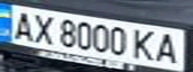0: (90, 21, 112, 54), (72, 19, 93, 52), (109, 25, 130, 57)
8: (54, 16, 78, 48)
A: (151, 30, 184, 65), (6, 8, 36, 42)
K: (130, 27, 160, 62)
X: (27, 11, 57, 45)
